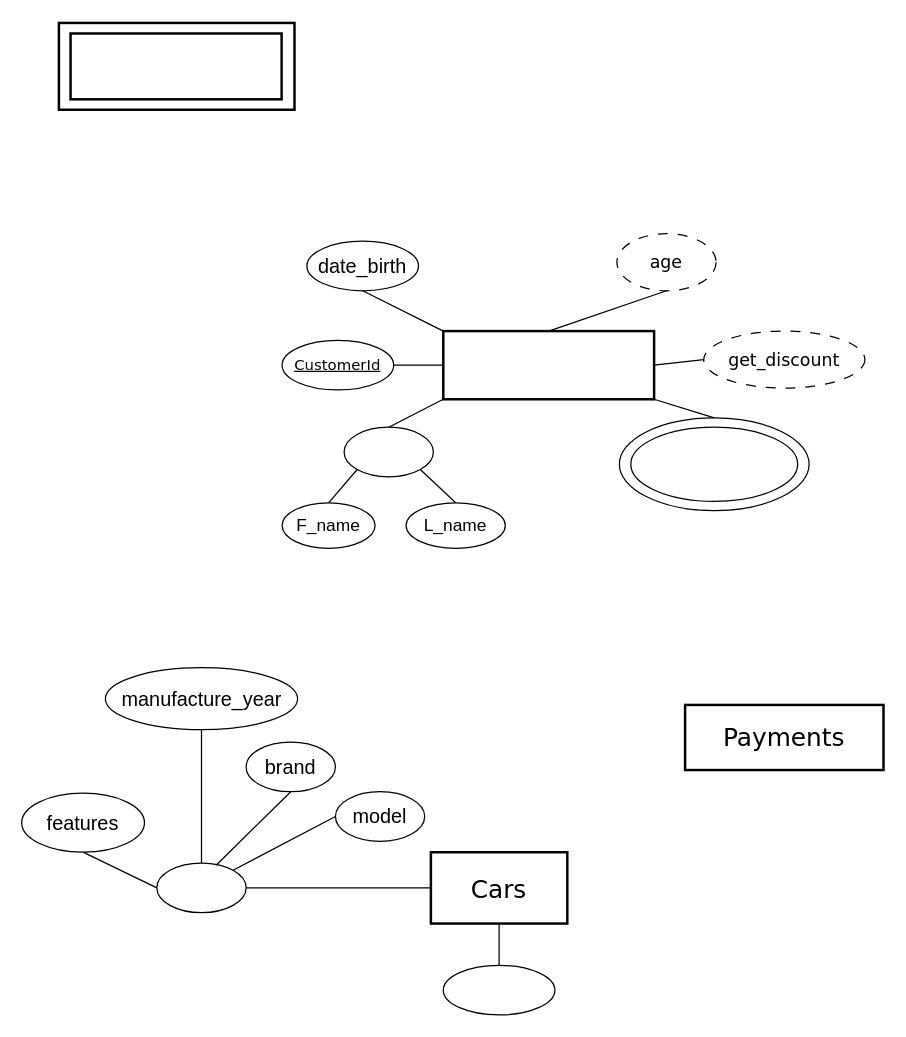
Image size: 906x1037. Some labels were removed from this diagram. The shapes that lost their labels are listed below. From the top down, each one's box as (x1, y1, x2, y2) in pixels, then its label:
(57, 21, 295, 110): Reservations
(441, 329, 655, 400): Customers
(343, 426, 433, 477): Name
(630, 426, 798, 501): Phone_num
(156, 862, 246, 913): details
(442, 964, 555, 1015): CarID
